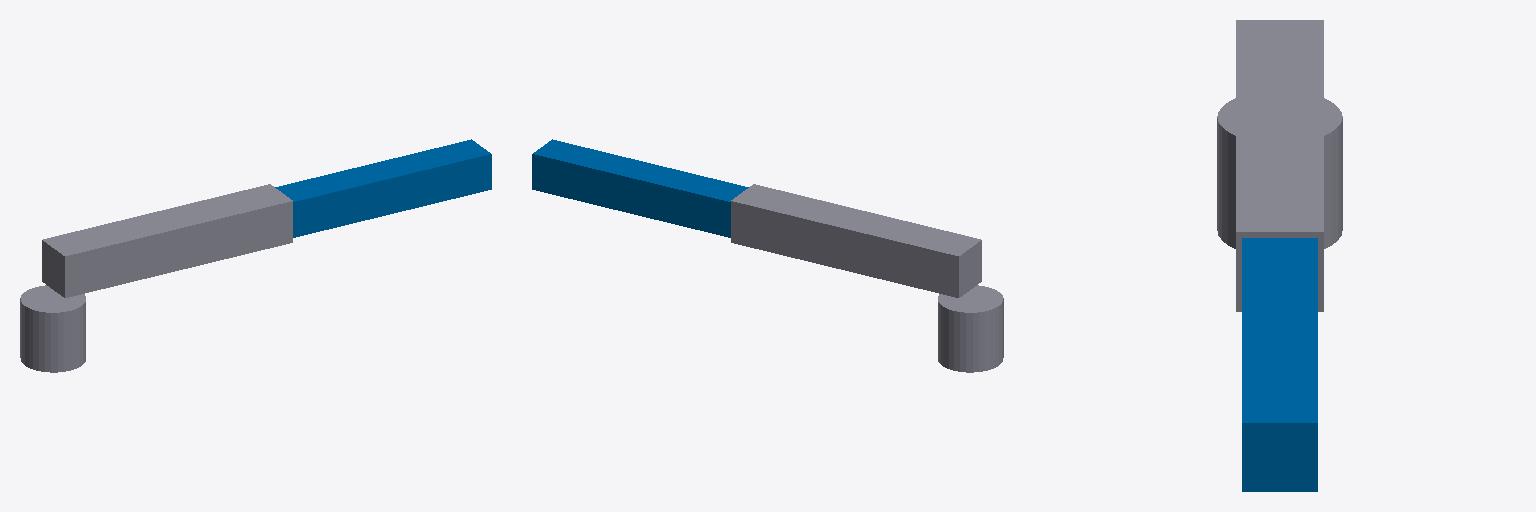
The robot description file, URDF, robot "arm7":
<?xml version="1.0"?>
<!-- A 7-DoF redundant arm, roughly the shape of a Panda or an iiwa.

     Seven revolute joints against a six-DoF tool pose leaves one degree of
     freedom over, so the same pose is reachable by a continuous family of
     configurations - the elbow sweeping while the tool stands still. That
     family is the whole subject of the elbow-target tests, and arm6.urdf
     deliberately has no such thing.

     The extra joint is joint3, an upper-arm roll between the shoulder and the
     elbow, which is where a redundant arm usually puts it. -->
<robot name="arm7">
  <material name="steel"><color rgba="0.6 0.6 0.65 1.0"/></material>

  <link name="base"/>
  <link name="shoulder">
    <visual>
      <geometry><cylinder radius="0.05" length="0.1"/></geometry>
      <material name="steel"/>
    </visual>
  </link>
  <link name="upper_arm">
    <visual>
      <origin xyz="0.2 0 0"/>
      <geometry><box size="0.4 0.07 0.07"/></geometry>
      <material name="steel"/>
    </visual>
  </link>
  <link name="elbow"/>
  <link name="forearm">
    <visual>
      <origin xyz="0.175 0 0"/>
      <geometry><box size="0.35 0.06 0.06"/></geometry>
    </visual>
  </link>
  <link name="wrist_1"/>
  <link name="wrist_2"/>
  <link name="wrist_3"/>
  <link name="tool"/>

  <joint name="joint1" type="revolute">
    <parent link="base"/><child link="shoulder"/>
    <origin xyz="0 0 0.15" rpy="0 0 0"/><axis xyz="0 0 1"/>
    <limit lower="-3.14" upper="3.14" effort="150" velocity="3.15"/>
  </joint>
  <joint name="joint2" type="revolute">
    <parent link="shoulder"/><child link="upper_arm"/>
    <origin xyz="0 0 0.1" rpy="0 0 0"/><axis xyz="0 1 0"/>
    <limit lower="-2.5" upper="2.5" effort="150" velocity="3.15"/>
  </joint>
  <!-- The redundant one: a roll along the upper arm. Turning it swings the
       elbow around the shoulder-to-wrist line without moving either end. -->
  <joint name="joint3" type="revolute">
    <parent link="upper_arm"/><child link="elbow"/>
    <origin xyz="0.4 0 0" rpy="0 0 0"/><axis xyz="1 0 0"/>
    <limit lower="-2.9" upper="2.9" effort="150" velocity="3.15"/>
  </joint>
  <joint name="joint4" type="revolute">
    <parent link="elbow"/><child link="forearm"/>
    <origin xyz="0 0 0" rpy="0 0 0"/><axis xyz="0 1 0"/>
    <limit lower="-2.8" upper="2.8" effort="150" velocity="3.15"/>
  </joint>
  <joint name="joint5" type="revolute">
    <parent link="forearm"/><child link="wrist_1"/>
    <origin xyz="0.35 0 0" rpy="0 0 0"/><axis xyz="1 0 0"/>
    <limit lower="-3.14" upper="3.14" effort="28" velocity="3.2"/>
  </joint>
  <joint name="joint6" type="revolute">
    <parent link="wrist_1"/><child link="wrist_2"/>
    <origin xyz="0.1 0 0" rpy="0 0 0"/><axis xyz="0 1 0"/>
    <limit lower="-2.0" upper="2.0" effort="28" velocity="3.2"/>
  </joint>
  <joint name="joint7" type="revolute">
    <parent link="wrist_2"/><child link="wrist_3"/>
    <origin xyz="0.08 0 0" rpy="0 0 0"/><axis xyz="1 0 0"/>
    <limit lower="-3.14" upper="3.14" effort="28" velocity="3.2"/>
  </joint>
  <joint name="wrist_to_tool" type="fixed">
    <parent link="wrist_3"/><child link="tool"/>
    <origin xyz="0.05 0 0" rpy="0 0 0"/>
  </joint>
</robot>

--- What the picture shows (computed from the rendered views, not written in the file) ---
The picture shows the robot from 3 angles, left to right: view 1: azimuth 30°, elevation 25°; view 2: azimuth 150°, elevation 25°; view 3: azimuth 270°, elevation 25°; orthographic projection.
Model arm7 with 9 links and 8 joints (7 revolute, 1 fixed), rooted at base, posed all joints at 0.
Visible links, largest first — view 1: upper_arm, forearm, shoulder; view 2: upper_arm, forearm, shoulder; view 3: upper_arm, forearm, shoulder.
Link boxes in pixels (left/top/right/bottom): upper_arm: left=42, top=184, right=292, bottom=297; forearm: left=275, top=139, right=491, bottom=237; shoulder: left=20, top=285, right=85, bottom=372; upper_arm: left=731, top=184, right=981, bottom=297; forearm: left=532, top=139, right=748, bottom=237; shoulder: left=938, top=285, right=1003, bottom=372; upper_arm: left=1236, top=20, right=1323, bottom=311; forearm: left=1242, top=238, right=1317, bottom=491; shoulder: left=1217, top=98, right=1342, bottom=248.
Size in the robot's own frame: 0.8 by 0.1 by 0.185 metres.
Geometry: primitives only (box / cylinder / sphere), no mesh files.
